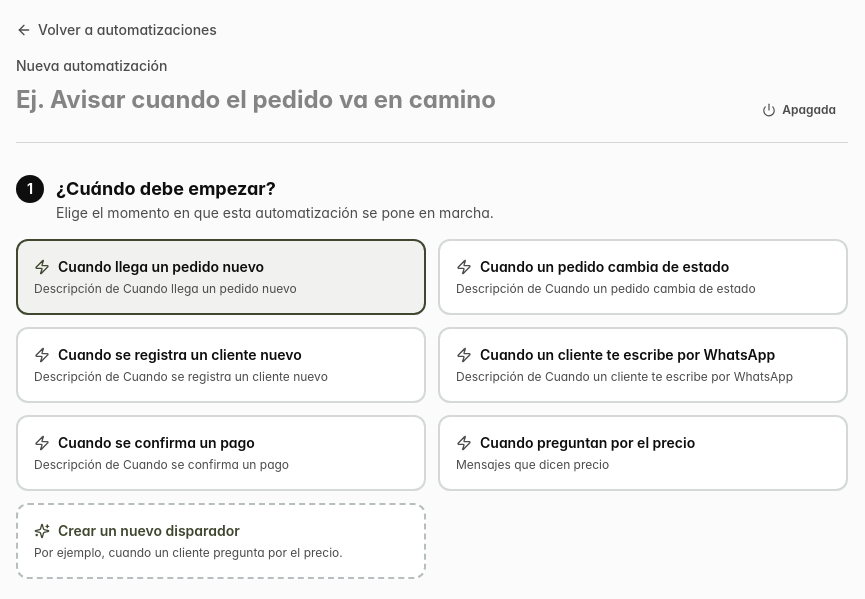
Scenario: FlowBuilderPage › explains in plain language when the new trigger cannot be created
Click the button "Crear un nuevo disparador" at (221, 541), box 16,503 -> 426,579
(page scrolled)
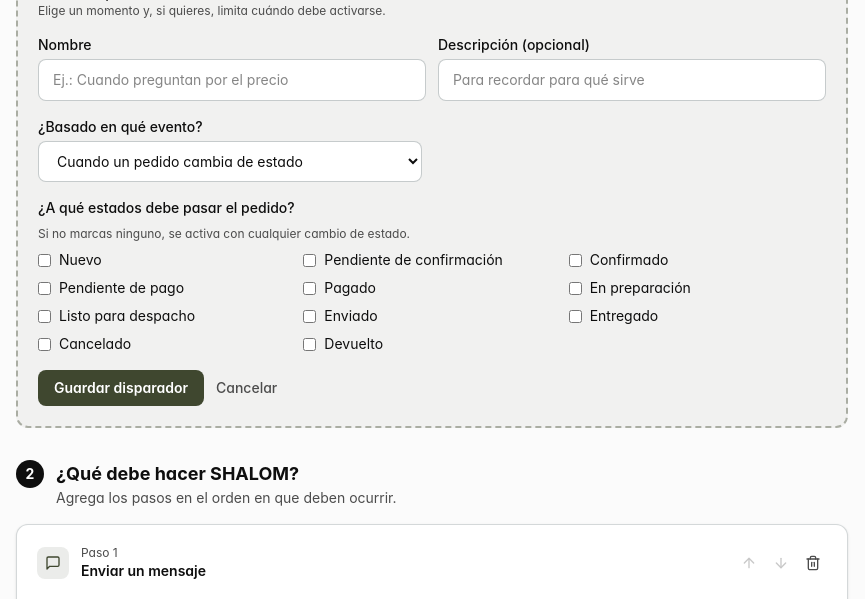
Click the button "Guardar disparador" at (121, 388), box 38,370 -> 204,406
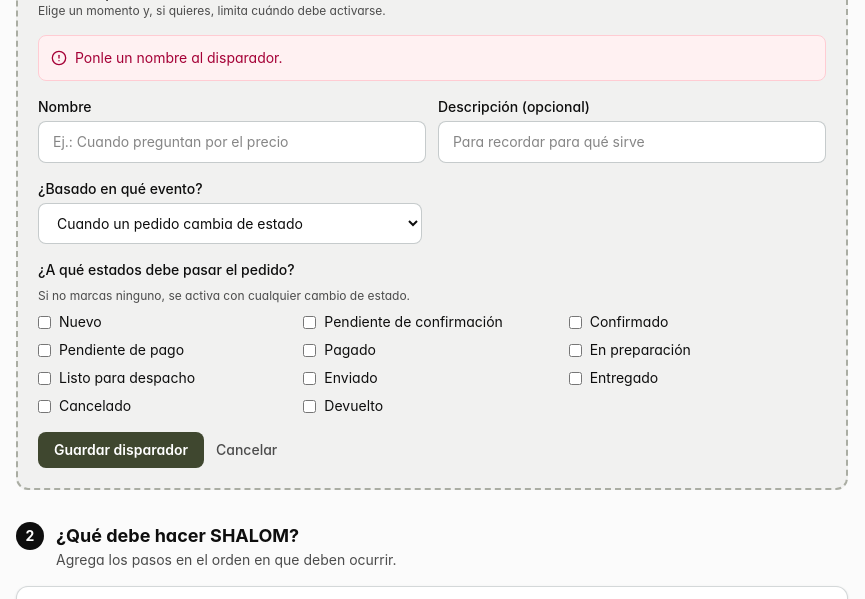
Expected: the message reads "Ponle un nombre al disparador.", 75,49 -> 283,66
Type "Clientes nuevos VIP" into the field labelled "Nombre" at (232, 142), box 38,121 -> 426,163
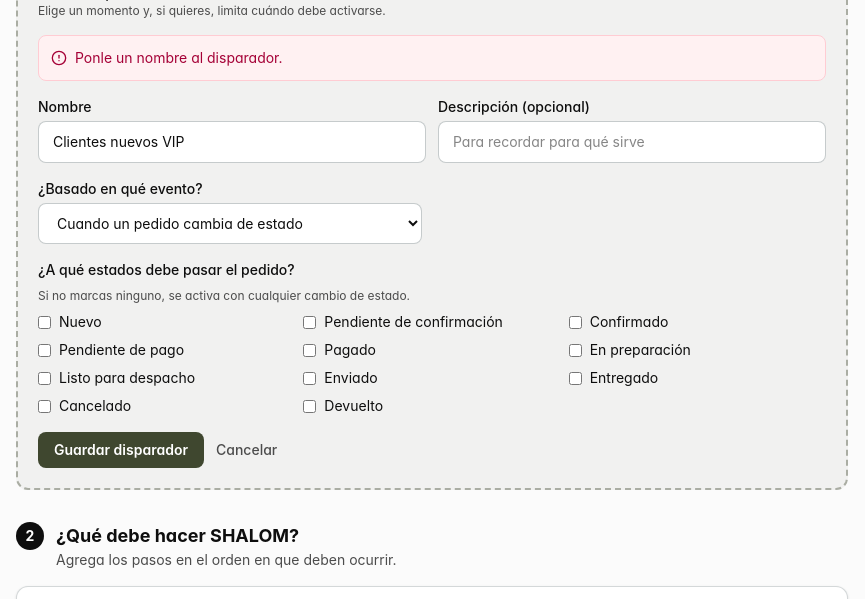
Click the button "Guardar disparador" at (121, 450), box 38,432 -> 204,468
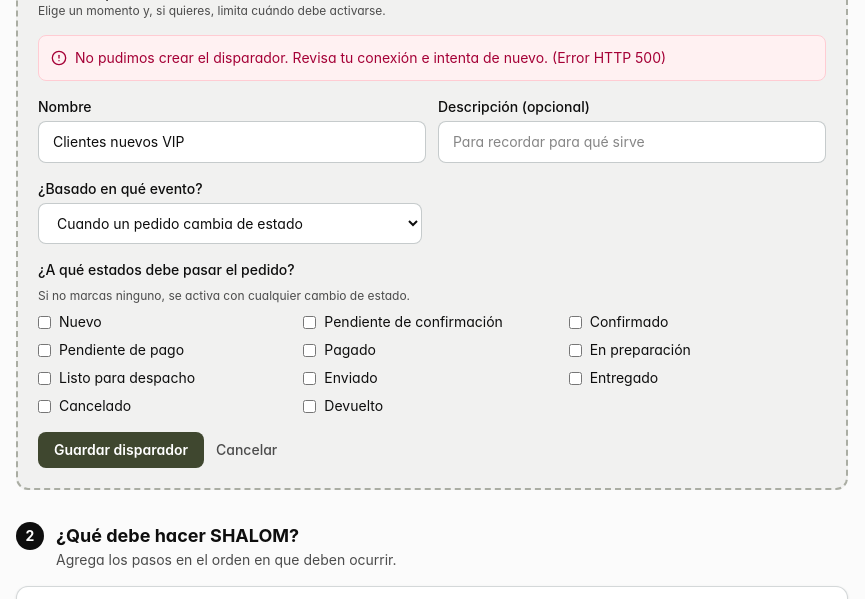
Expected: the message shows "No pudimos crear el disparador", 75,49 -> 666,66
